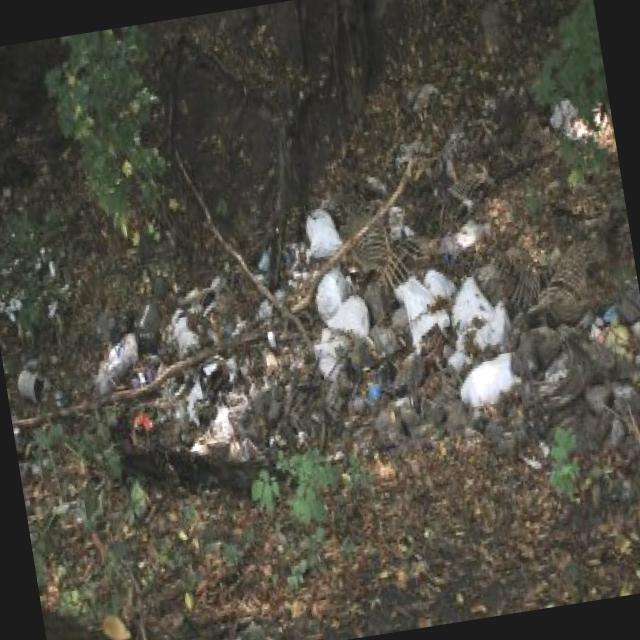garbage: (34, 82, 596, 599)
